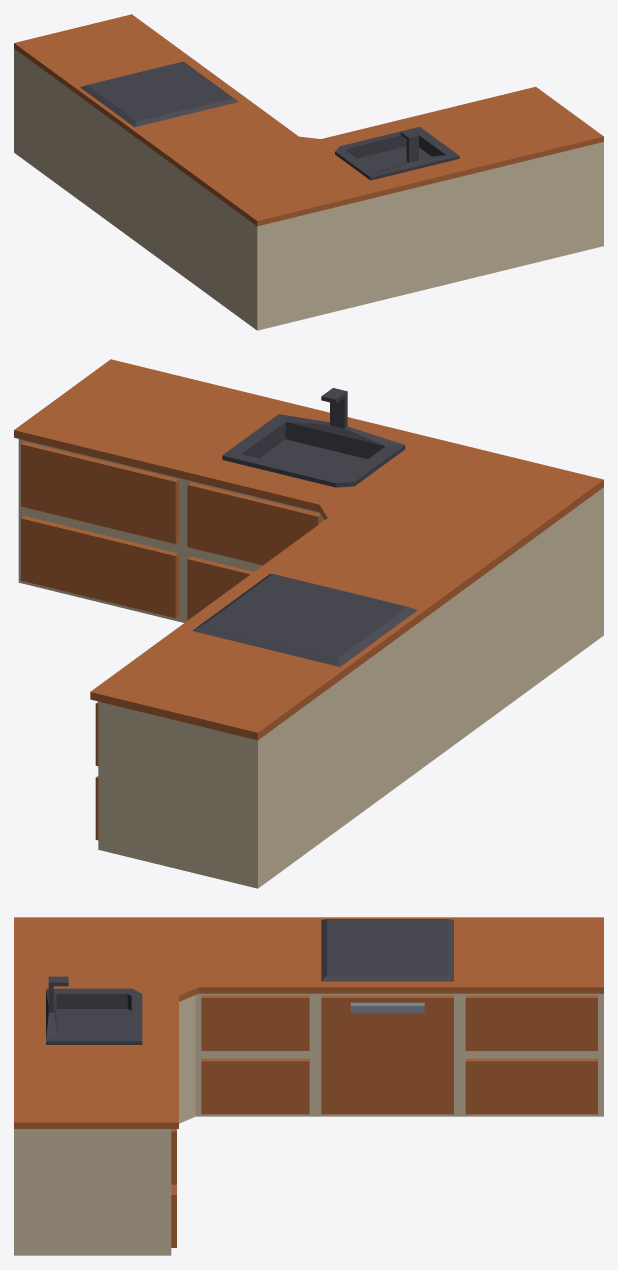
The model's file is MP_Kitchen_Counter.fbx.
3 renders of one model, top to bottom at view 1: azimuth 30°, elevation 25°; view 2: azimuth 150°, elevation 25°; view 3: azimuth 270°, elevation 25°, orthographic. The views are drawn at different scales.
Parts seen in each view (by area): view 1: Kitchen_Counter_Mesh; view 2: Kitchen_Counter_Mesh; view 3: Kitchen_Counter_Mesh.
Part boxes in pixels (x1=…): Kitchen_Counter_Mesh: x1=14, y1=14, x2=603, y2=330; Kitchen_Counter_Mesh: x1=14, y1=359, x2=603, y2=888; Kitchen_Counter_Mesh: x1=14, y1=917, x2=603, y2=1255.
Bounding box in the file's own units: 221 × 86.13 × 268.
